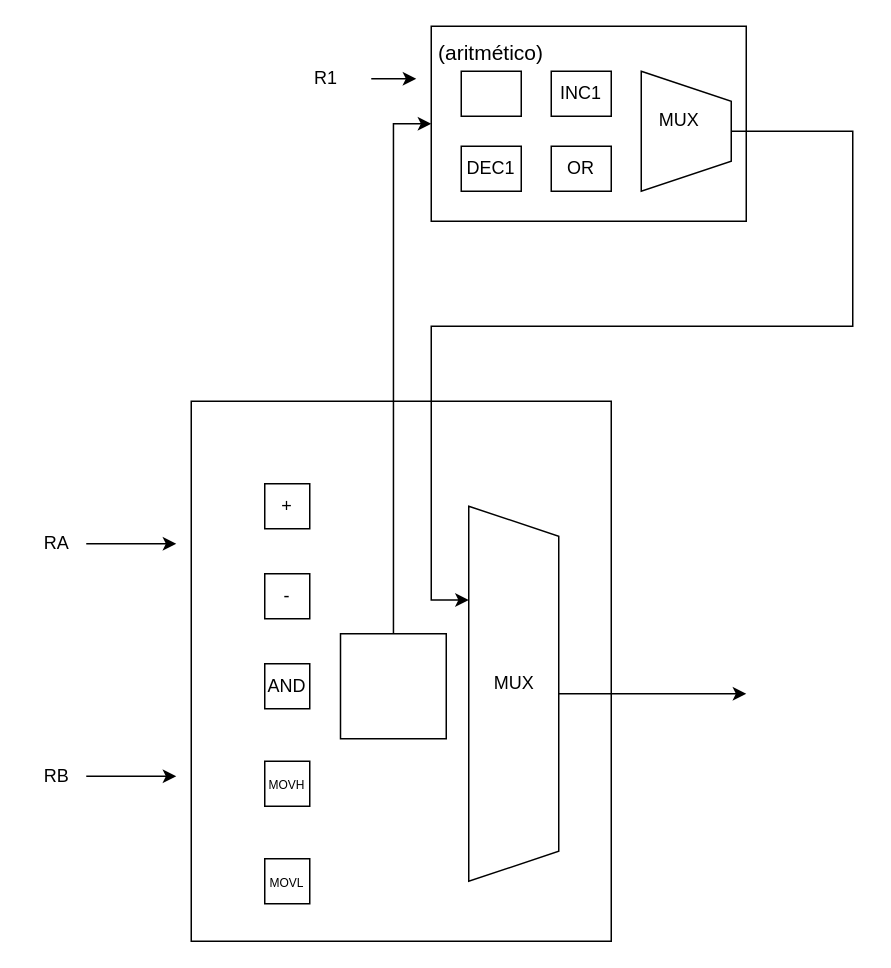
Image size: 891x968. Some labels were removed from this diagram. Here are the shapes that lost their labels. From the top down, the centre of each, then its label:
the point at 490,93: NOT
the point at 392,685: INC-OPS
